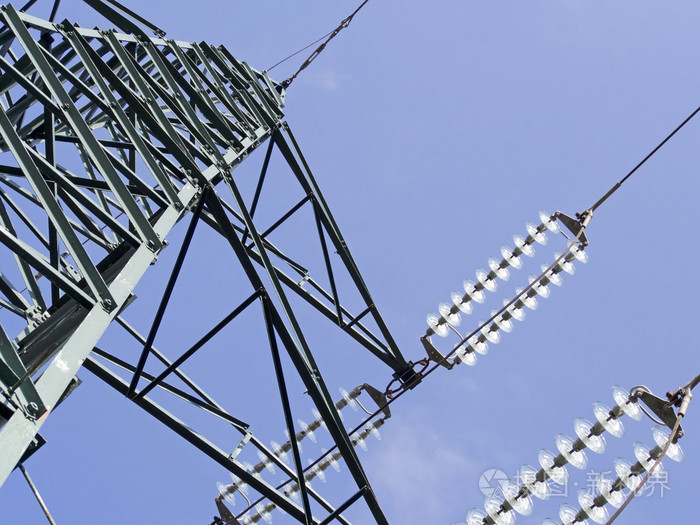insulator: (458, 381, 643, 525), (454, 236, 588, 369), (427, 207, 560, 338), (214, 385, 358, 503), (235, 415, 385, 525), (544, 426, 684, 525)
